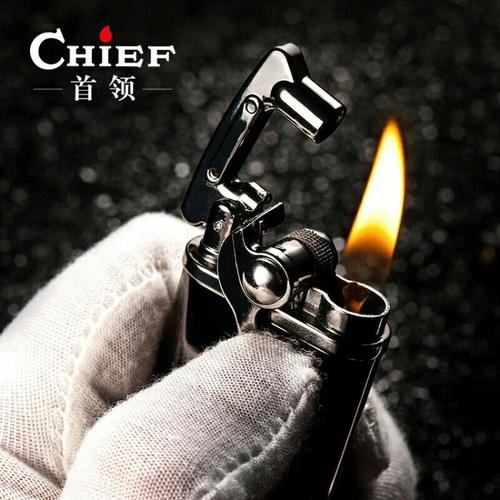fire: (348, 103, 424, 296)
